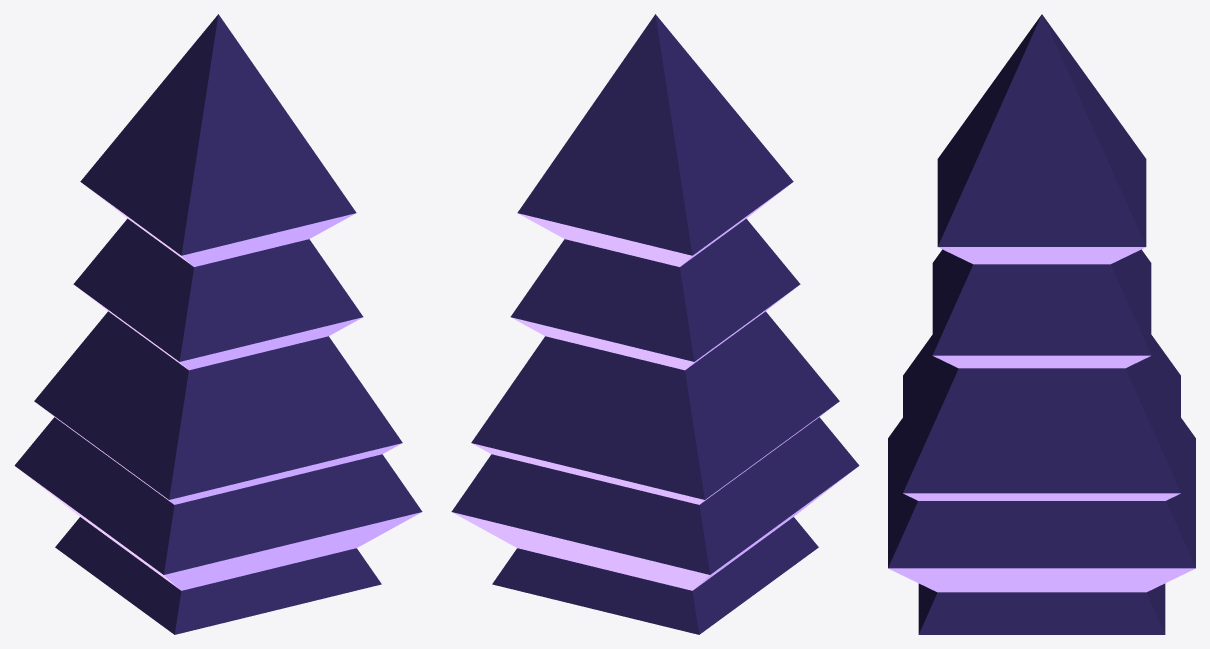
File: tree.fbx
3 views of the same model, side by side, from view 1: azimuth 30°, elevation 25°; view 2: azimuth 150°, elevation 25°; view 3: azimuth 270°, elevation 25° (orthographic). The views are drawn at different scales.
Parts seen in each view (by area): view 1: Pyramid_26; view 2: Pyramid_26; view 3: Pyramid_26.
Boxes of the visible parts, x1,y1,x2,y2 form: Pyramid_26: (14, 14, 422, 634); Pyramid_26: (451, 14, 859, 634); Pyramid_26: (888, 14, 1195, 634).
Bounding box in the file's own units: 250 × 509 × 250.
